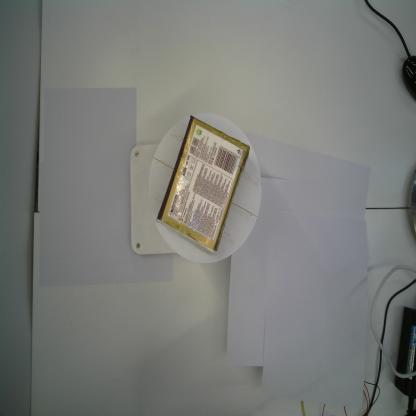Tissue: (155, 112, 250, 253)
